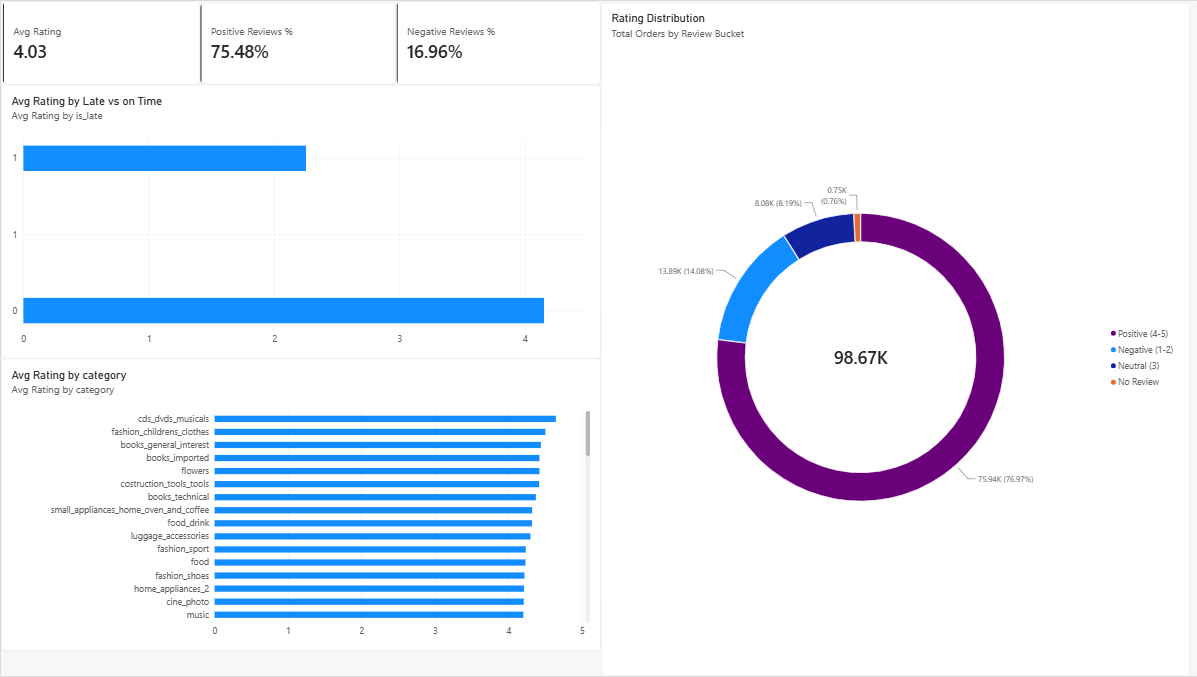

Layout of this report page (visuals, bound fields, positions):
{"tool":"powerbi","page":{"name":"Reviews","canvas":[1920,1080],"ordinal":5},"visuals":[{"type":"cardVisual","title":"Avg Rating","fields":{"Data":["public bi_fact_sales.Avg Rating"]},"box":[2,0,316,134],"z":0},{"type":"cardVisual","title":"Positive Rating Percentage","fields":{"Data":["public bi_fact_sales.Positive Reviews %"]},"box":[318,2,314,132],"z":1},{"type":"cardVisual","title":"Negative  Rating %","fields":{"Data":["public bi_fact_sales.Negative Reviews %"]},"box":[632,0,328,134],"z":2},{"type":"donutChart","title":"Rating Distribution","fields":{"Category":["public bi_fact_sales.Review Bucket"],"Y":["public bi_fact_sales.Total Orders"]},"box":[960,2,942,1078],"z":3},{"type":"clusteredBarChart","title":"Avg Rating by Late vs on Time","fields":{"Category":["public bi_fact_sales.is_late"],"Y":["public bi_fact_sales.Avg Rating"]},"box":[0,134,960,438],"z":4},{"type":"clusteredBarChart","title":"Avg Rating by category","fields":{"Category":["public bi_fact_sales.category"],"Y":["public bi_fact_sales.Avg Rating"]},"box":[0,572,960,468],"z":5}]}

Visuals, with their boxes in screenshot pixels (x1, y1, x2, y2), scaled from the page's 1920x1080 canvas onto the 1197x677 screenshot:
"Avg Rating" cardVisual: select_region(1, 0, 198, 84)
"Positive Rating Percentage" cardVisual: select_region(198, 1, 394, 84)
"Negative  Rating %" cardVisual: select_region(394, 0, 598, 84)
"Rating Distribution" donutChart: select_region(598, 1, 1186, 676)
"Avg Rating by Late vs on Time" clusteredBarChart: select_region(0, 84, 598, 359)
"Avg Rating by category" clusteredBarChart: select_region(0, 359, 598, 652)
